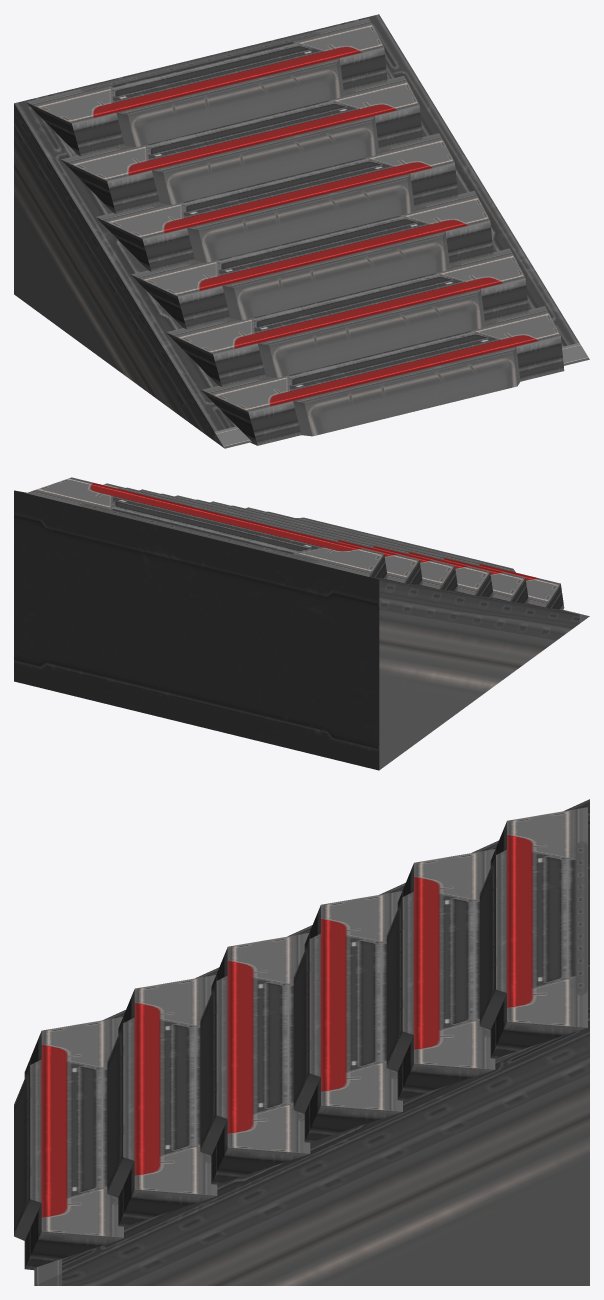
File: stairs-vjg9ejHX.glb
3 views of the same model, one above another, from view 1: azimuth 30°, elevation 25°; view 2: azimuth 150°, elevation 25°; view 3: azimuth 270°, elevation 25° (orthographic). The views are drawn at different scales.
Visible parts, largest first — view 1: Platform_Stairs_2; view 2: Platform_Stairs_2; view 3: Platform_Stairs_2.
Part boxes in pixels (<box>): Platform_Stairs_2: <box>14,14,589,448</box>; Platform_Stairs_2: <box>14,477,589,770</box>; Platform_Stairs_2: <box>14,799,589,1285</box>.
Size of the model in its own units: 2 by 1.01 by 2.07.
Materials: 2 (2 with a texture image).
